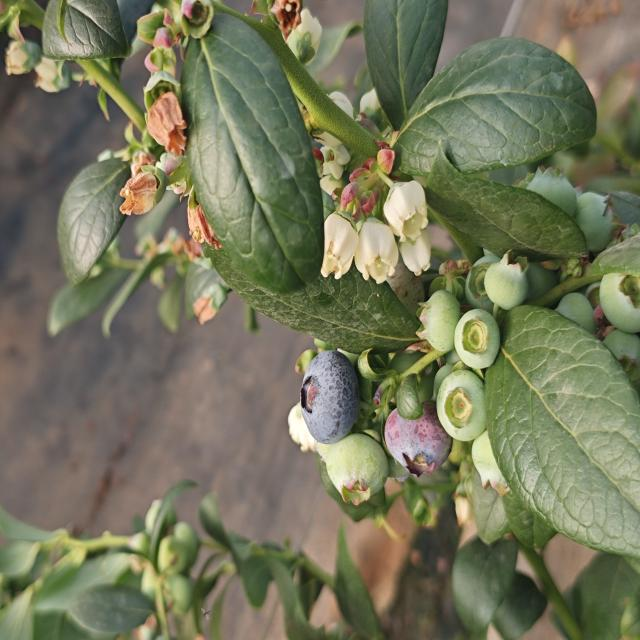ripe: (293, 337, 355, 438), (384, 398, 454, 475)
